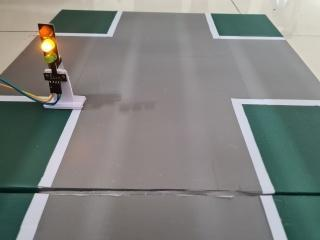yellow: (28, 17, 69, 75)
